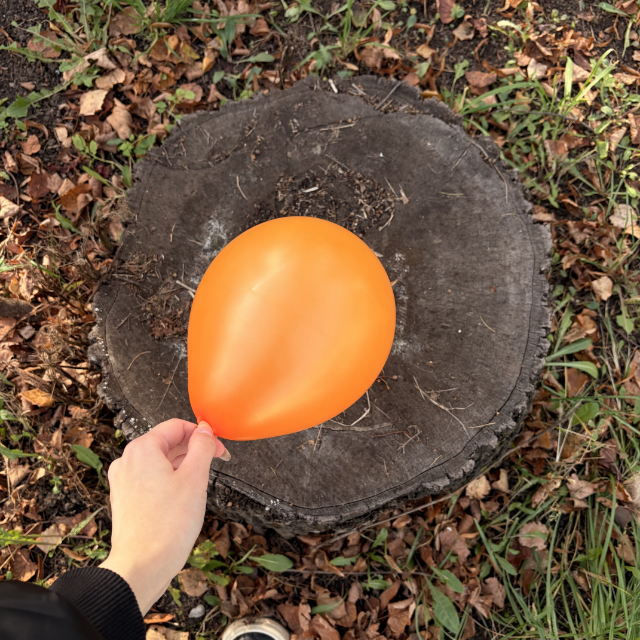balloon: (187, 216, 396, 441)
